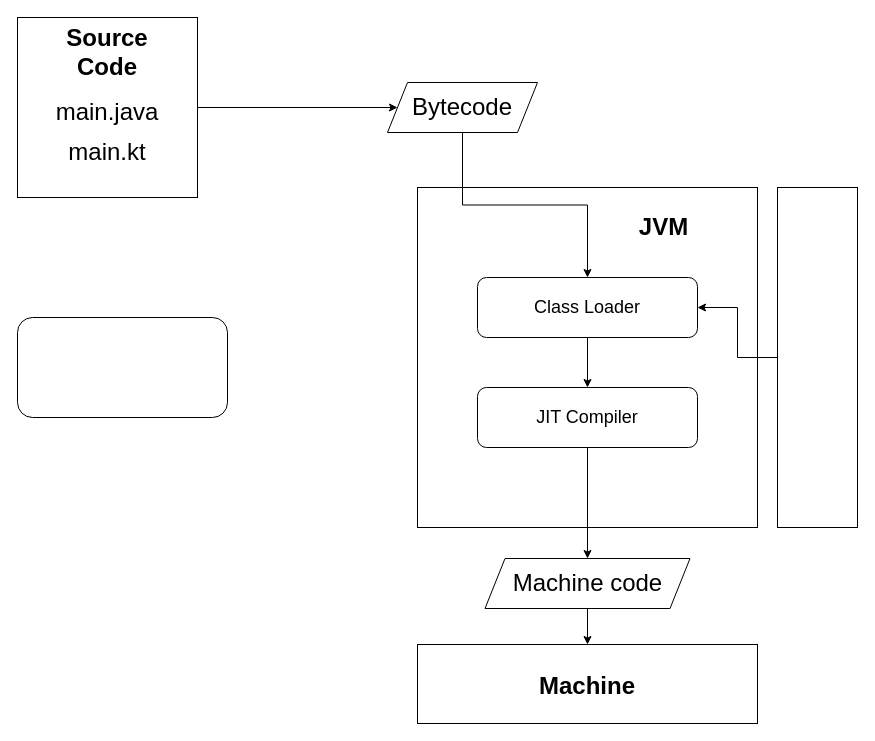
Some shapes in this 875 by 741 pixel diagram are drawn without their labels. The box of each missing label's shape, as (x1, y1, x2, y2) in pixels:
External library .jar file: (16, 316, 228, 418)
JDK: (776, 186, 858, 528)
